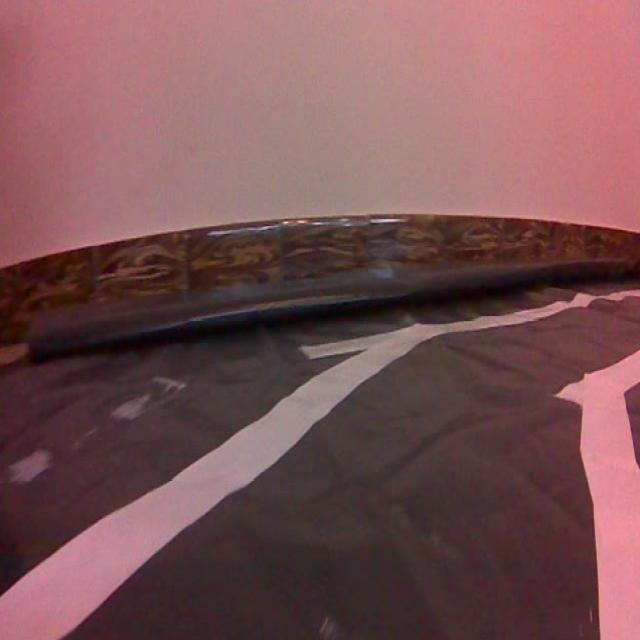LineaCarril: (0, 292, 640, 640), (558, 350, 640, 640)
